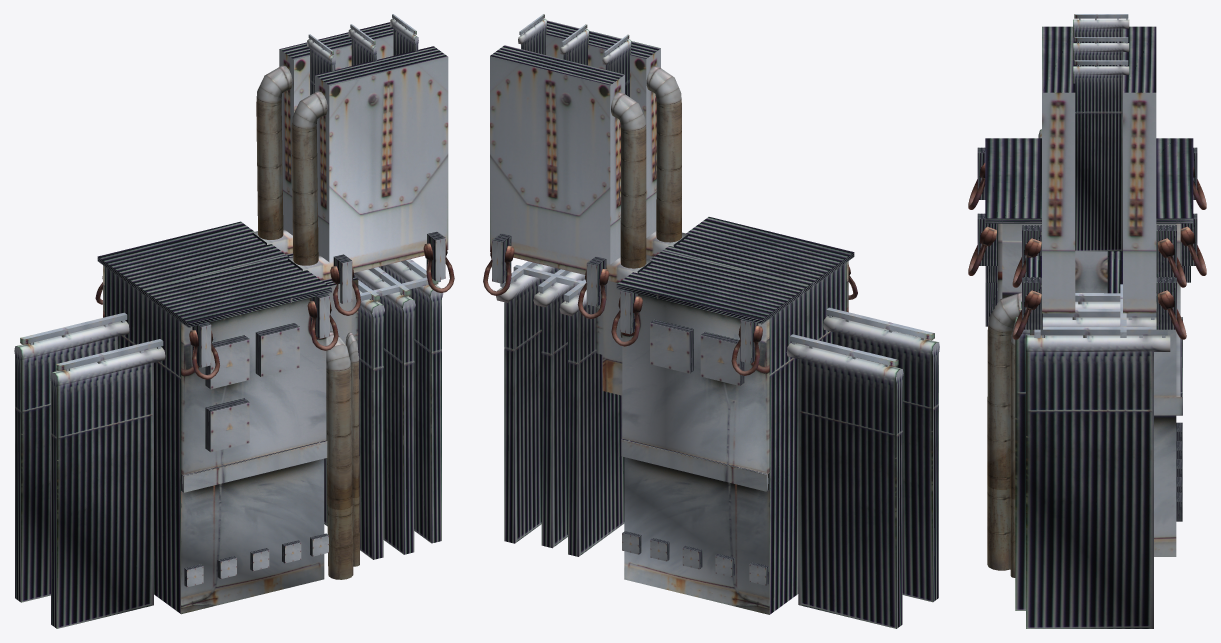
File: industrial17.obj
The picture shows the model from 3 angles, left to right: view 1: azimuth 30°, elevation 25°; view 2: azimuth 150°, elevation 25°; view 3: azimuth 270°, elevation 25°; orthographic projection. The views are drawn at different scales.
Visible parts, largest first — view 1: industrial17; view 2: industrial17; view 3: industrial17.
Part boxes in pixels (<box>): industrial17: <box>14,14,454,628</box>; industrial17: <box>483,14,939,628</box>; industrial17: <box>968,14,1206,628</box>.
Size of the model in its own units: 133 by 160 by 61.24.
1 material, 1 textured.
